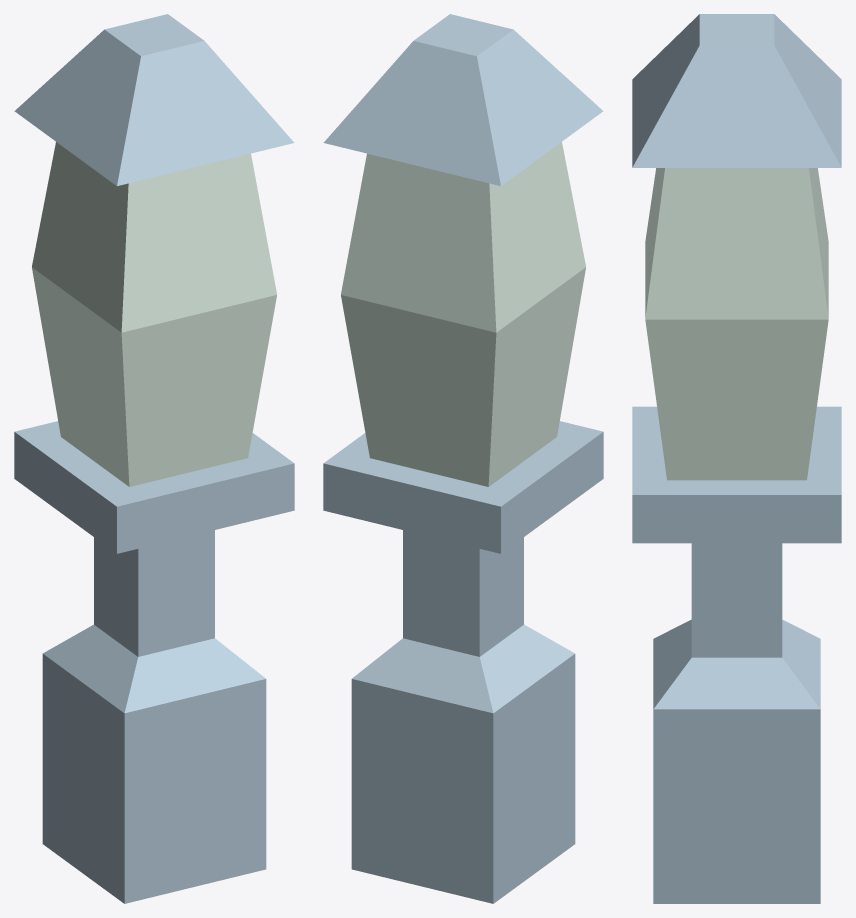
File: lantern_cute.fbx
3 renders of one model, left to right at view 1: azimuth 30°, elevation 25°; view 2: azimuth 150°, elevation 25°; view 3: azimuth 270°, elevation 25°, orthographic. The views are drawn at different scales.
Visible parts, largest first — view 1: lantern_cute; view 2: lantern_cute; view 3: lantern_cute.
Part boxes in pixels (left/top/right/bottom): lantern_cute: left=14, top=14, right=294, bottom=903; lantern_cute: left=323, top=14, right=603, bottom=903; lantern_cute: left=632, top=14, right=841, bottom=903.
Bounding box in the file's own units: 0.5718 × 2.53 × 0.5718.
